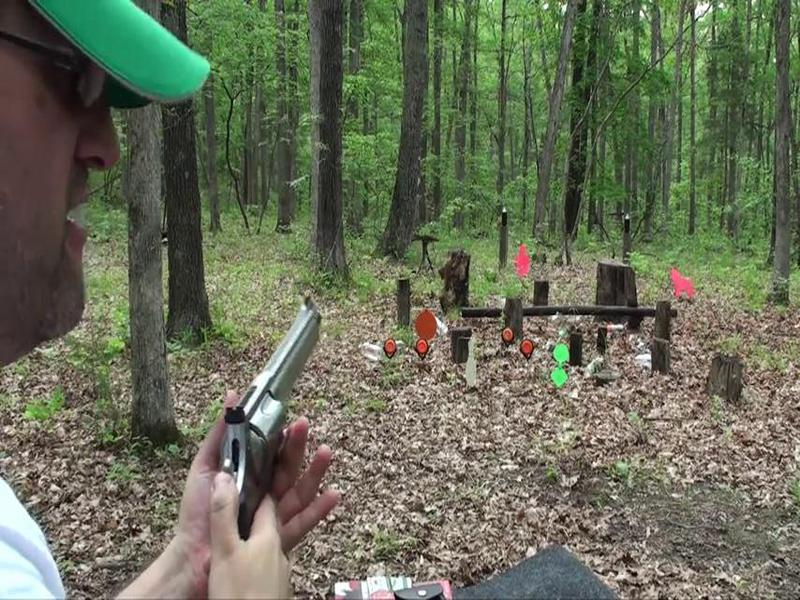Revolver: (197, 281, 349, 567)
